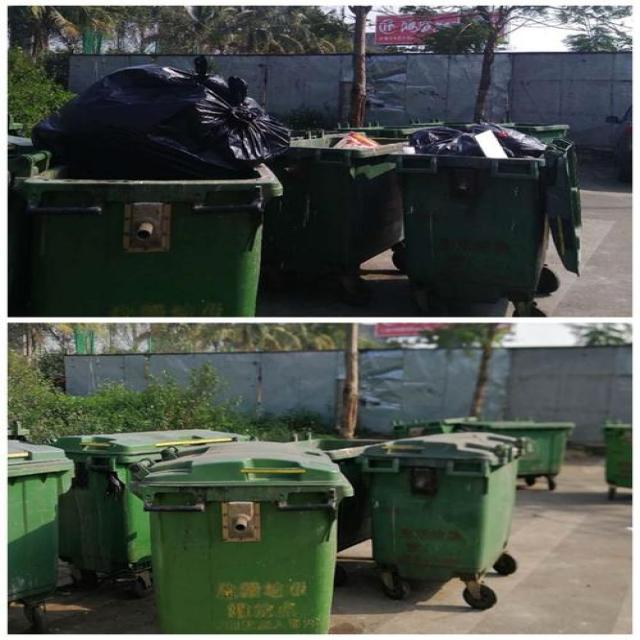garbage_bin: (128, 438, 353, 634), (57, 428, 251, 568), (356, 432, 523, 581), (7, 440, 69, 599), (463, 419, 575, 475), (600, 419, 631, 486)
overflow: (23, 63, 288, 317), (389, 121, 581, 297), (275, 132, 407, 265)
